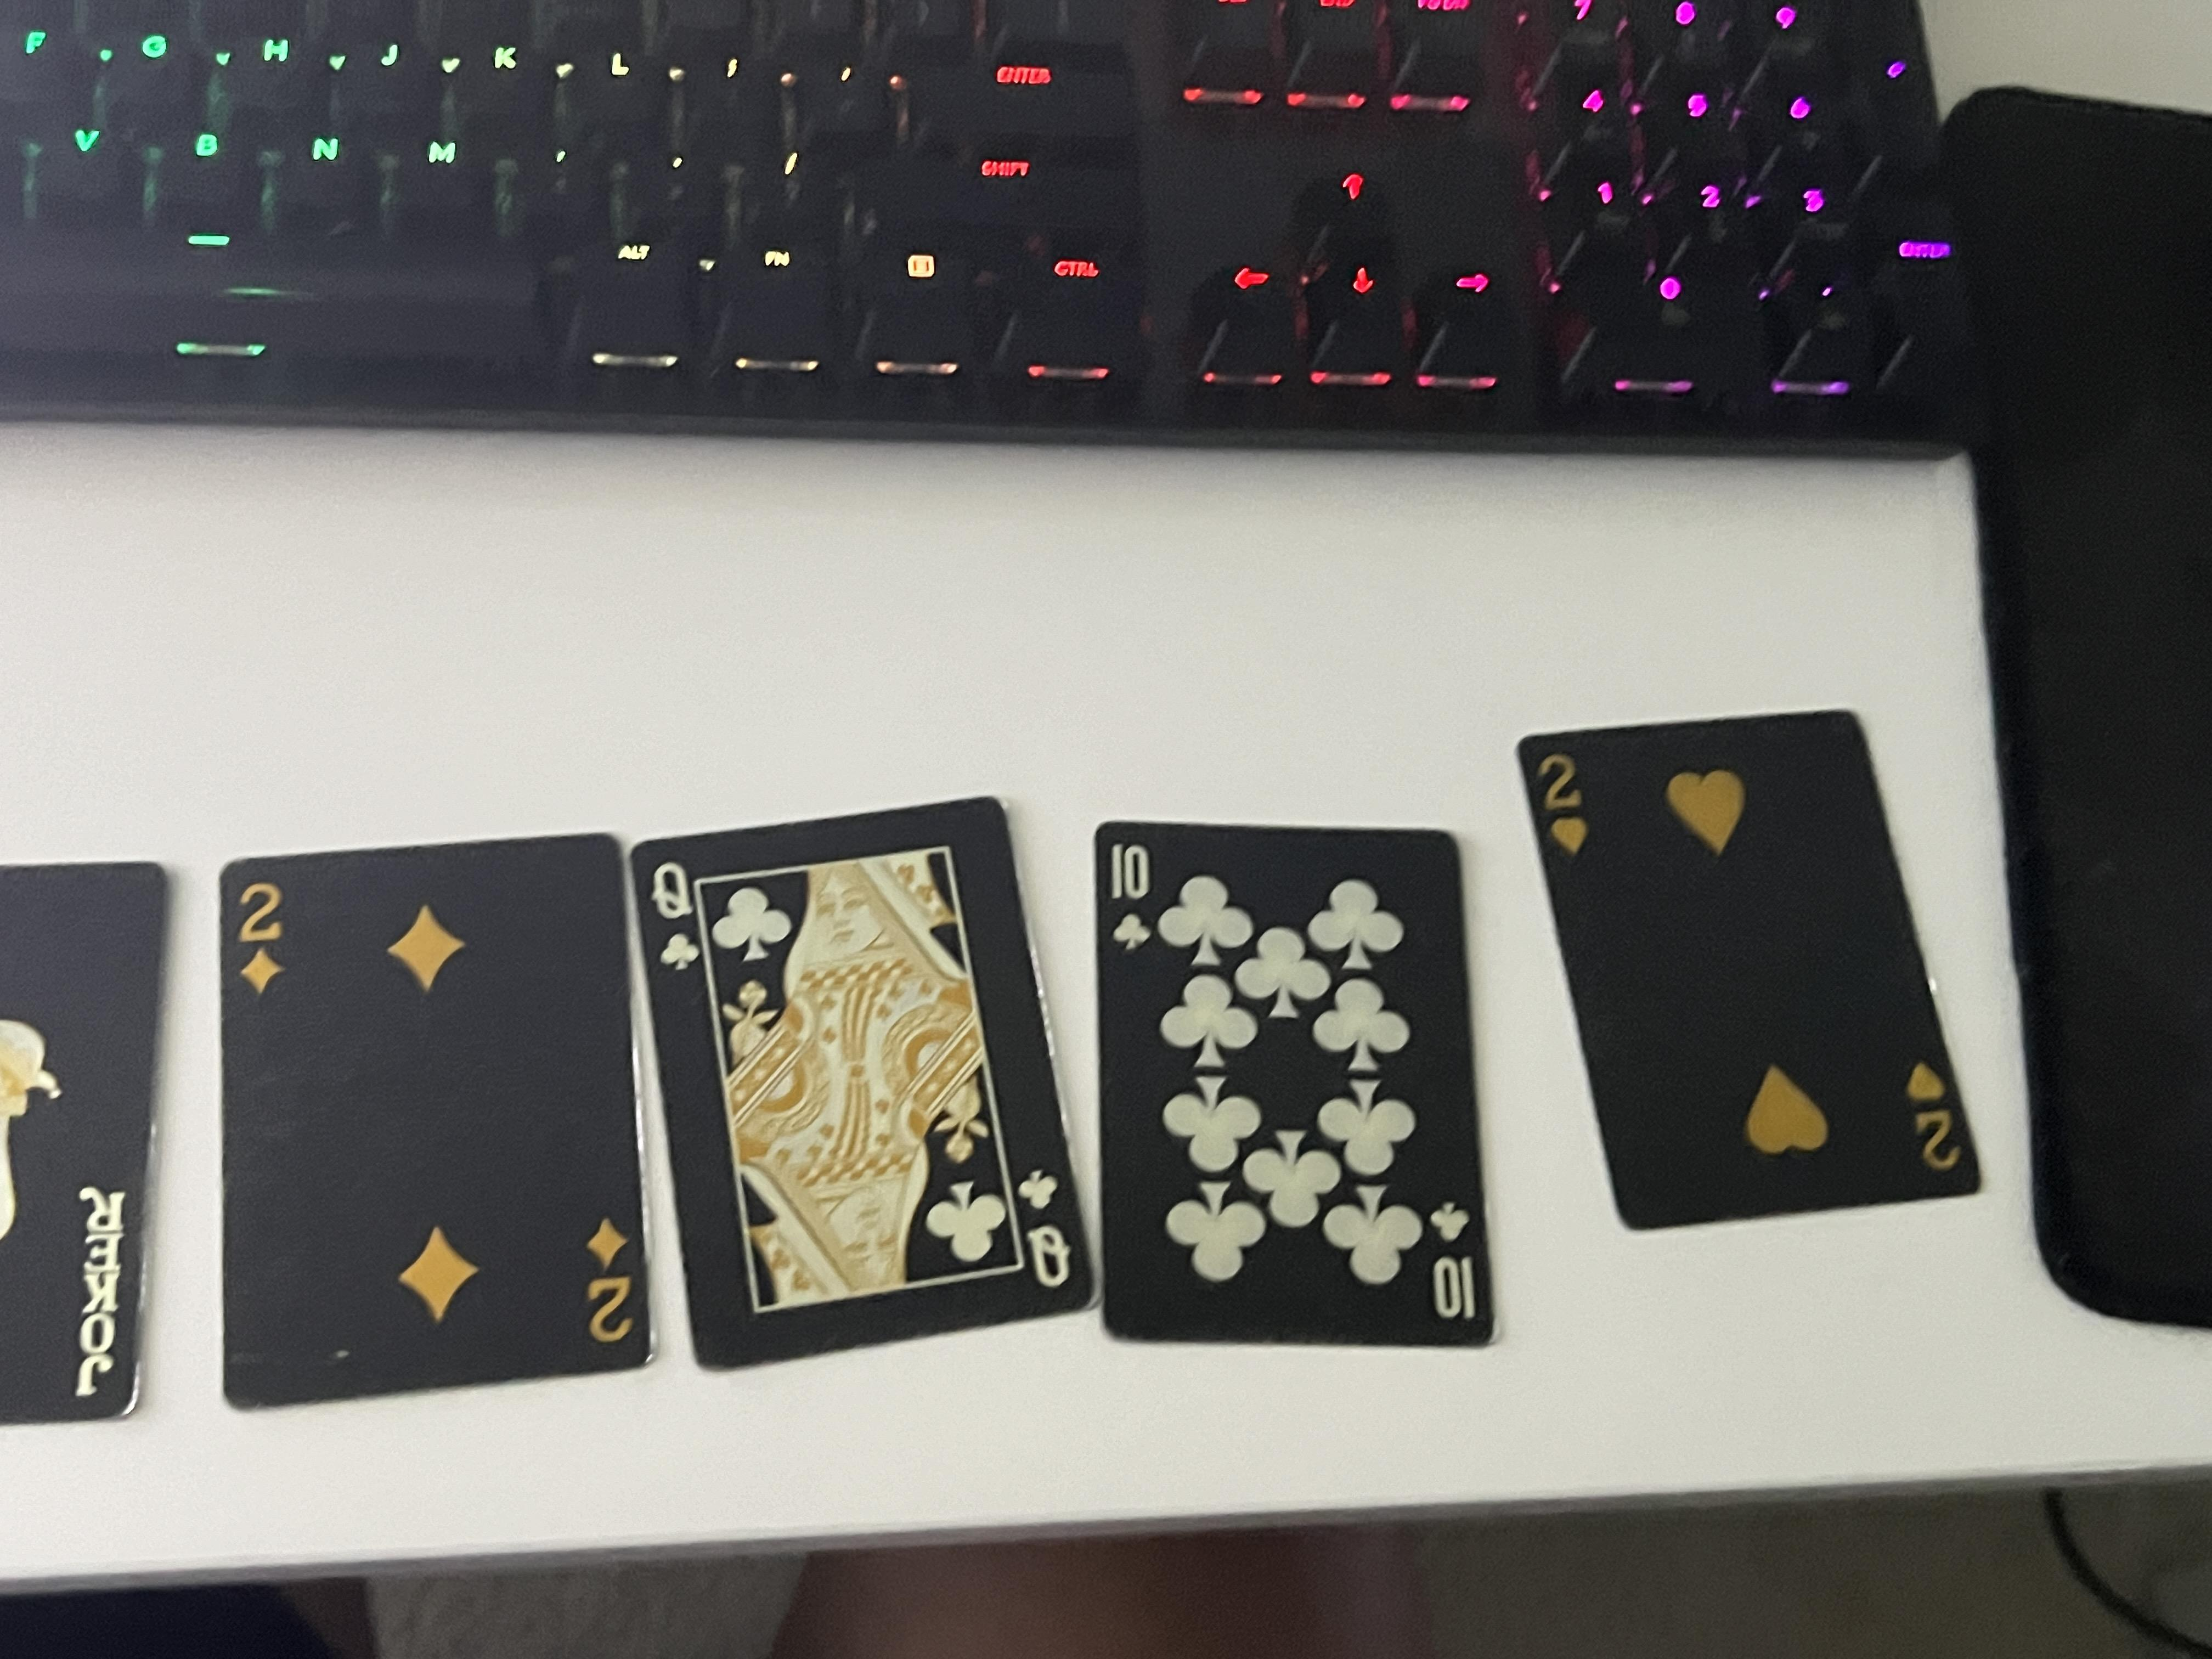10C: (428, 1070, 644, 1124), (941, 821, 1115, 875)
2D: (878, 164, 1071, 228), (416, 410, 599, 476)
2H: (1047, 1143, 1244, 1206), (658, 1405, 805, 1480)
BLACK JOKER: (315, 52, 662, 106)
QC: (895, 471, 1078, 528), (479, 760, 662, 810)
